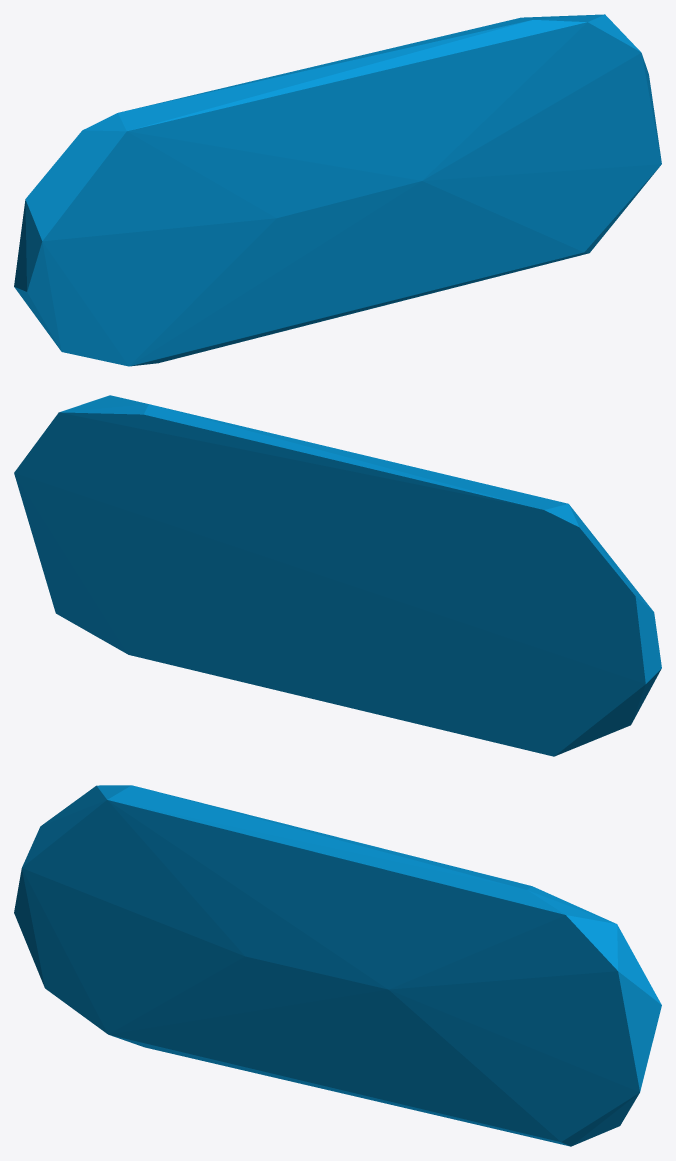
The model's file is hip-pitch-mirror_convex_piece_000.obj.
The picture shows the model from 3 angles, top to bottom: view 1: azimuth 30°, elevation 25°; view 2: azimuth 150°, elevation 25°; view 3: azimuth 330°, elevation 25°; orthographic projection.
Bounding box in the file's own units: 0.1878 × 0.0698 × 0.0123.
